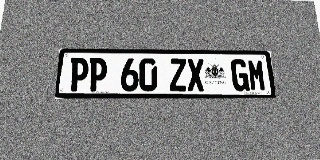0: (139, 58, 157, 91)
6: (121, 58, 139, 91)
G: (230, 59, 250, 91)
M: (247, 59, 267, 91)
P: (68, 58, 89, 91), (88, 58, 107, 91)
X: (187, 59, 205, 91)
Z: (169, 58, 187, 91)
